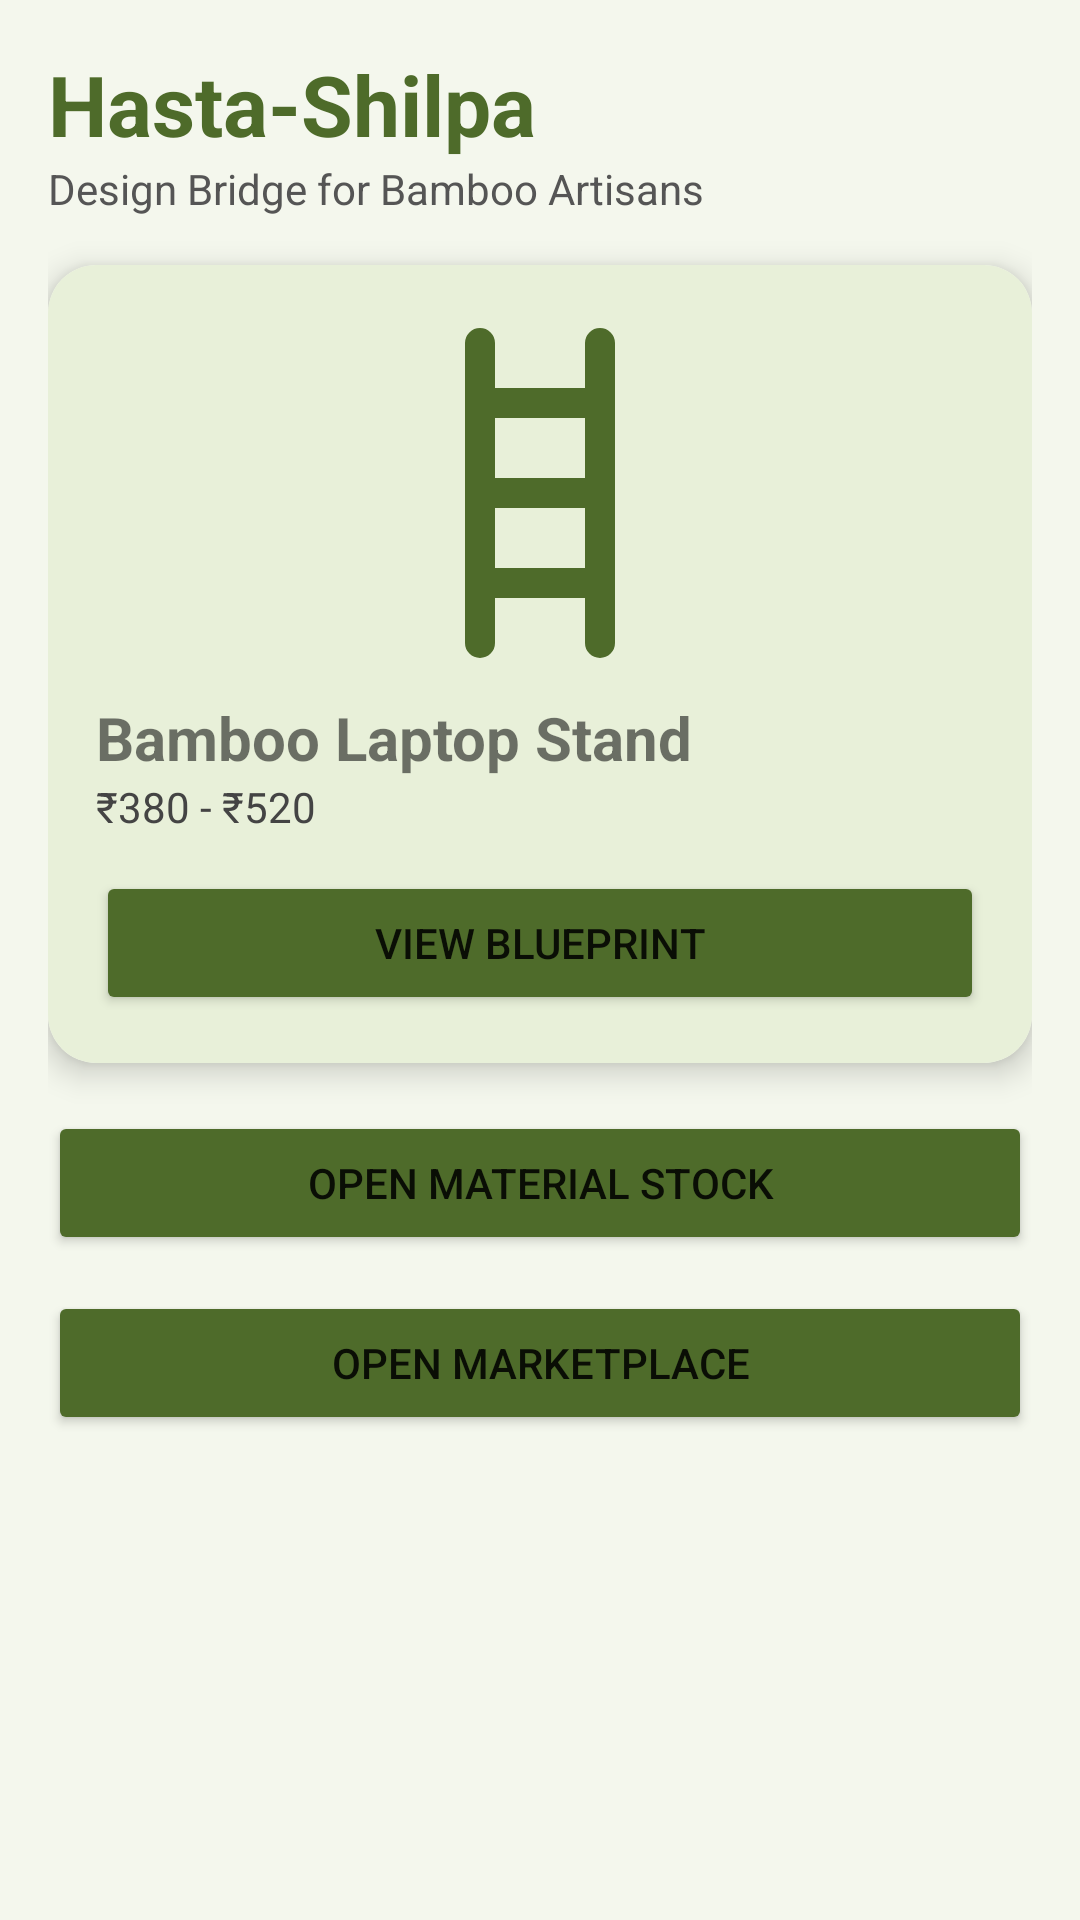

Where icons sit on this 1080 x 1920 app screen, as (left=x1, top=y1, right=x2, bottom=y2):
Bamboo Product Image: (left=465, top=328, right=615, bottom=658)
